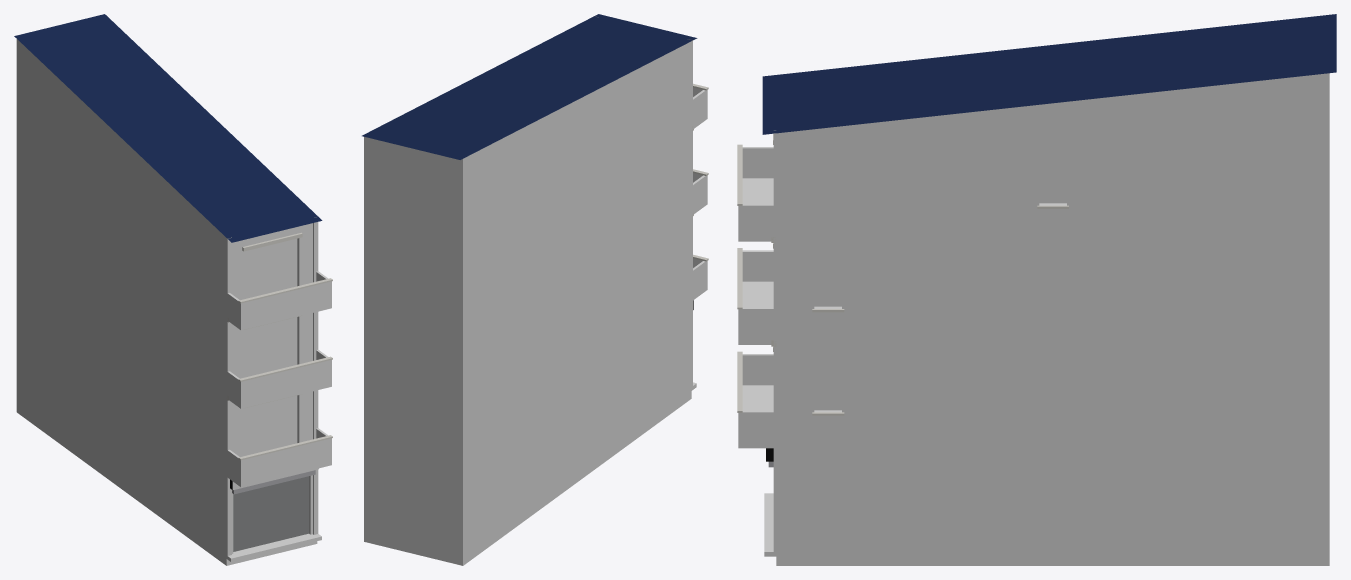
3 renders of one model, left to right at view 1: azimuth 30°, elevation 25°; view 2: azimuth 150°, elevation 25°; view 3: azimuth 270°, elevation 25°, orthographic. The views are drawn at different scales.
Visible parts, largest first — view 1: TH_D16_R_18_LOD0; view 2: TH_D16_R_18_LOD0; view 3: TH_D16_R_18_LOD0.
Boxes of the visible parts, left/top/right/bottom form: TH_D16_R_18_LOD0: left=14, top=14, right=332, bottom=565; TH_D16_R_18_LOD0: left=362, top=14, right=708, bottom=565; TH_D16_R_18_LOD0: left=737, top=14, right=1336, bottom=565.
Size of what is drawn, in the model's own units: 4.11 by 15.74 by 17.33.
